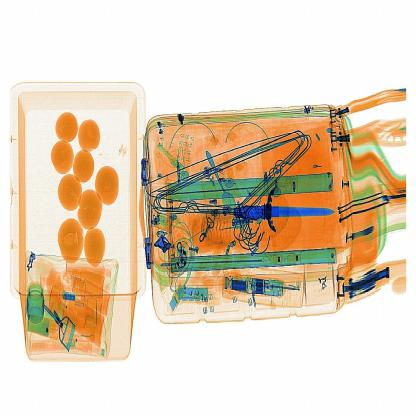wrench: (224, 176, 334, 233)
